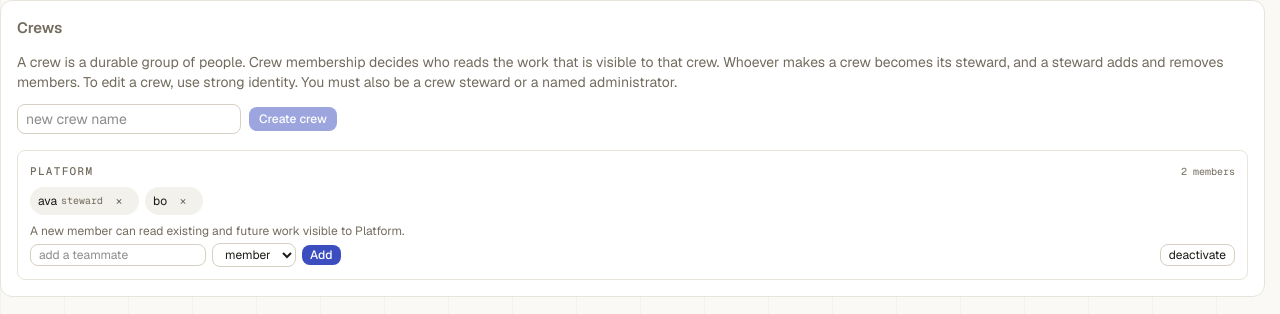
it: CrewsCard › states member-removal loss as a complete described sentence
This screenshot has width=1280, height=314.
Click the button named "Remove bo from Platform" at point(183, 201), box [171, 189, 195, 213]
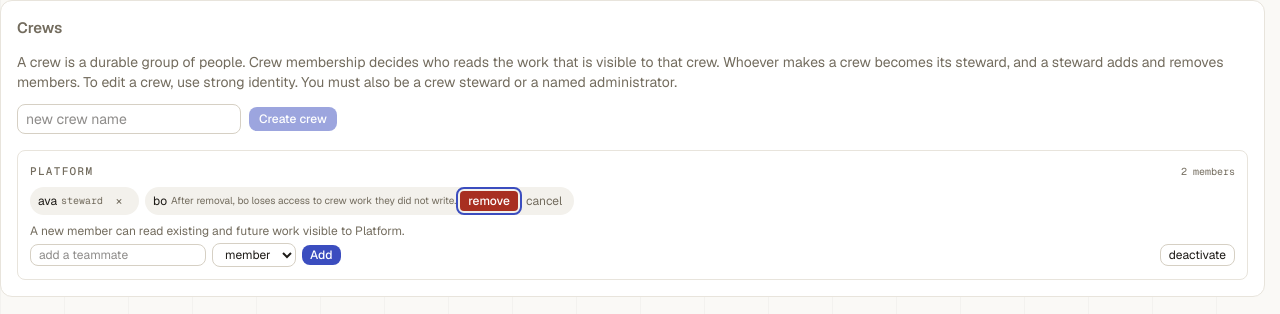
Result: the button with aria-label "Cancel removal" is shown at [522, 189, 566, 213]
